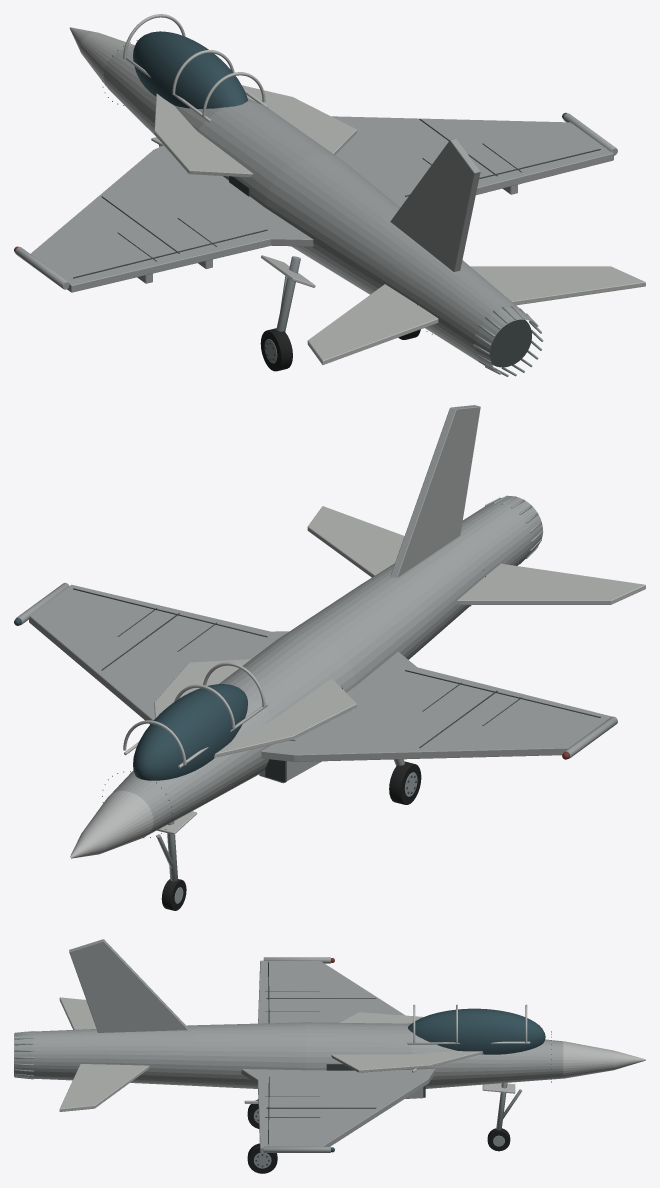
Rendered from fa50-surface-refinement.glb.
3 views of the same model, one above another, from view 1: azimuth 30°, elevation 25°; view 2: azimuth 150°, elevation 25°; view 3: azimuth 270°, elevation 25° (orthographic). The views are drawn at different scales.
Parts seen in each view (by area): view 1: grey, light, glass.001, dark, steel, rubber; view 2: grey, light, glass.001, dark, rubber, steel; view 3: grey, light, glass.001, steel, dark, rubber.
Part boxes in pixels (x1=…): grey: x1=15, y1=46, x2=617, y2=372; light: x1=69, y1=14, x2=645, y2=364; glass.001: x1=133, y1=31, x2=566, y2=118; dark: x1=73, y1=40, x2=600, y2=367; steel: x1=159, y1=145, x2=543, y2=376; rubber: x1=260, y1=328, x2=420, y2=371; grey: x1=15, y1=405, x2=617, y2=835; light: x1=70, y1=506, x2=645, y2=858; glass.001: x1=14, y1=618, x2=247, y2=780; dark: x1=73, y1=569, x2=600, y2=837; rubber: x1=161, y1=761, x2=421, y2=910; steel: x1=156, y1=495, x2=543, y2=903; grey: x1=14, y1=939, x2=563, y2=1152; light: x1=59, y1=997, x2=645, y2=1111; glass.001: x1=331, y1=1008, x2=545, y2=1152; steel: x1=14, y1=1031, x2=521, y2=1168; dark: x1=106, y1=961, x2=551, y2=1167; rubber: x1=247, y1=1099, x2=510, y2=1173.
Size of the model in its own units: 9.44 by 4.81 by 13.13.
